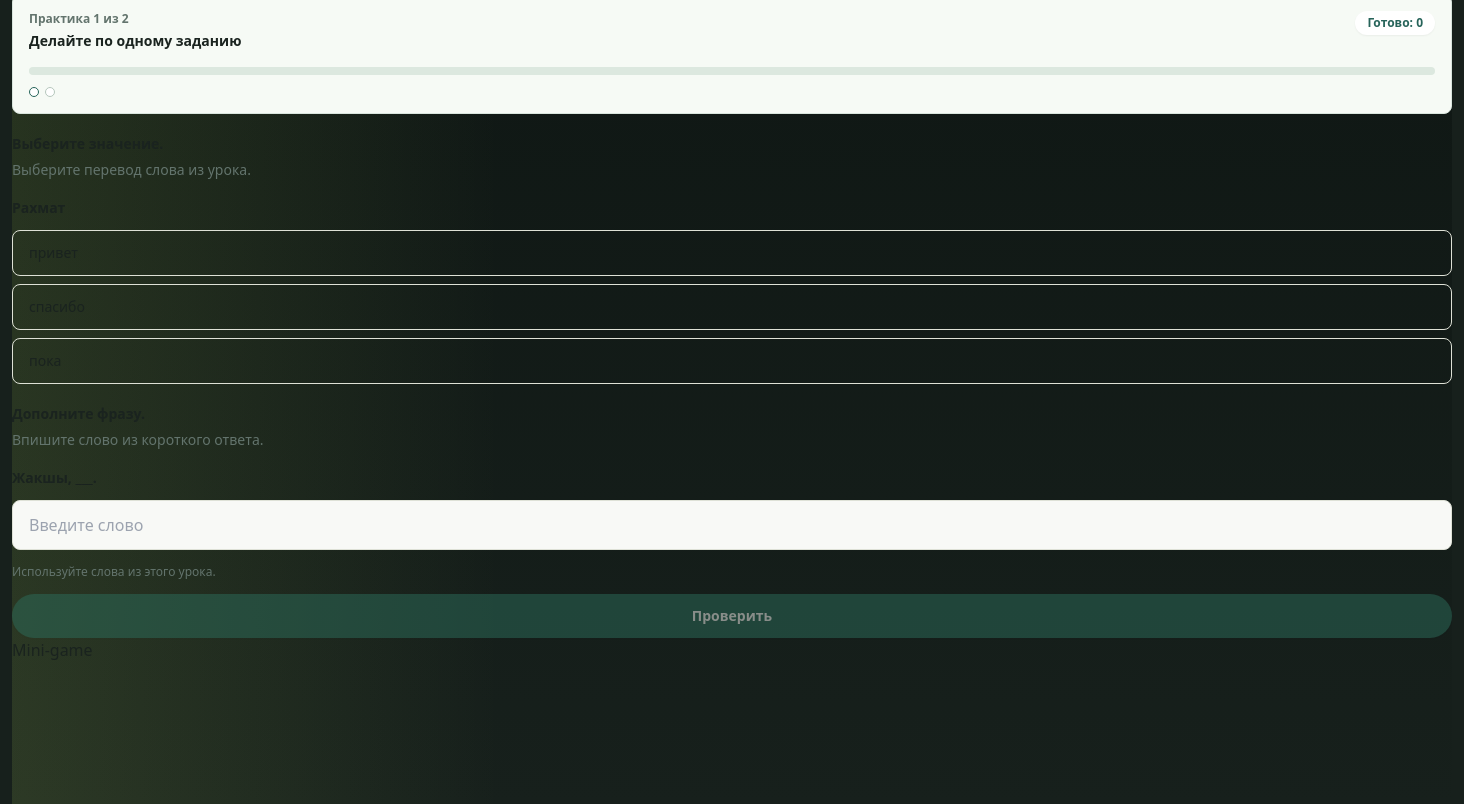
Test: PracticeSection › shows completion state and continue action after supported items are done
Click the button "спасибо" at (57, 306), box [12,284,1452,330]
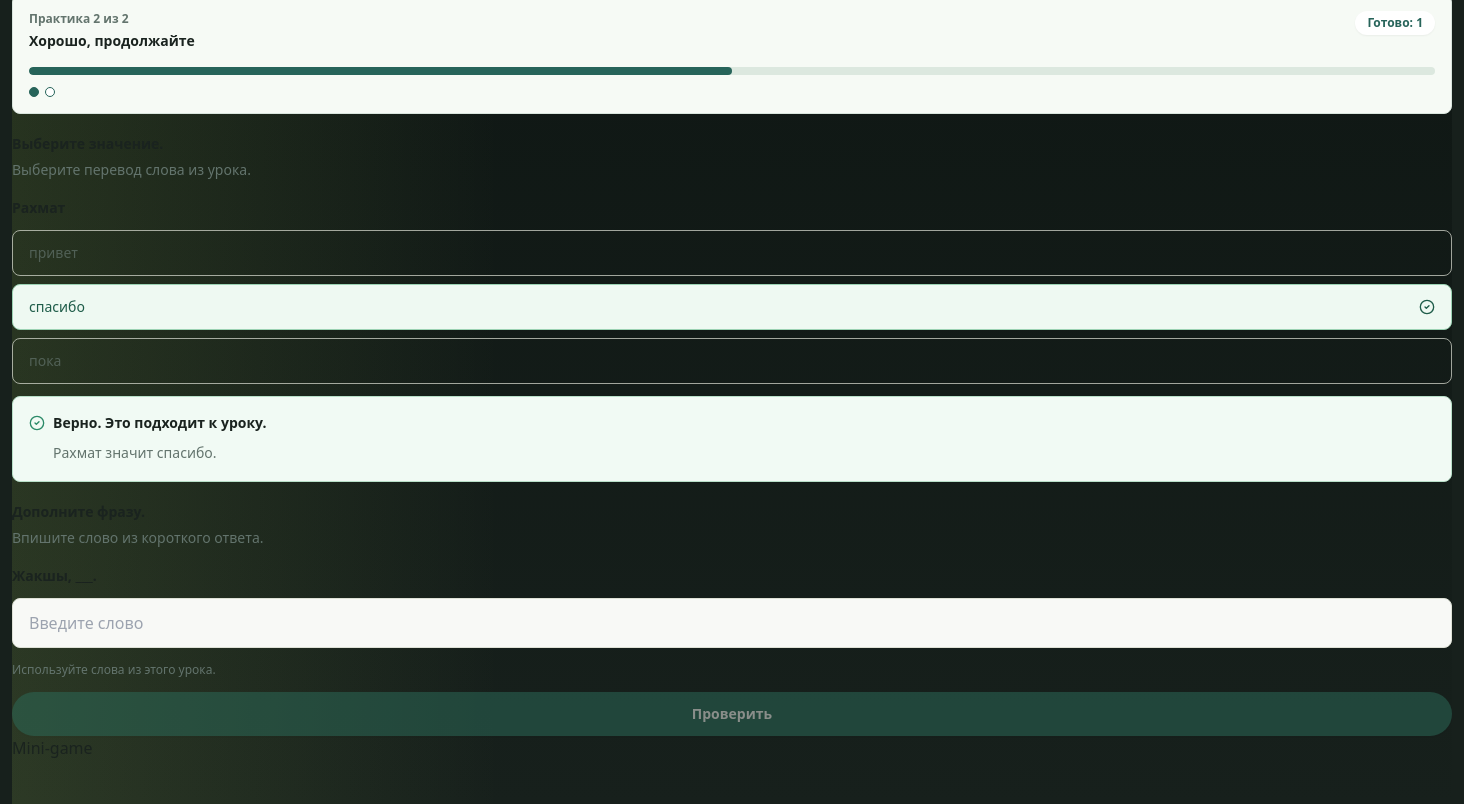
Type "рахмат" into the field labelled "Жакшы, ___." at (732, 623), box [12,598,1452,648]
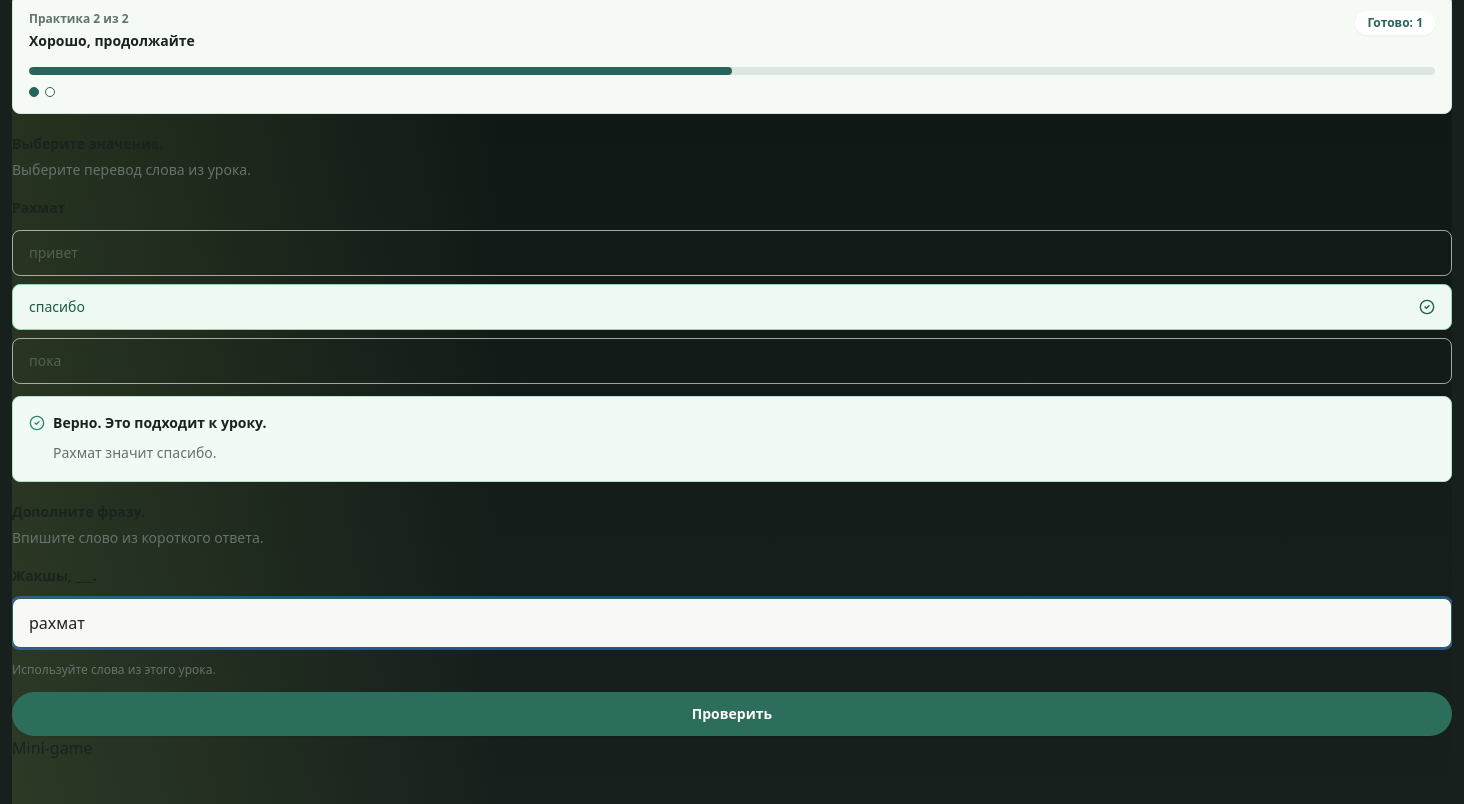
Click the button "Проверить" at (732, 714), box [12,692,1452,736]
(page scrolled)
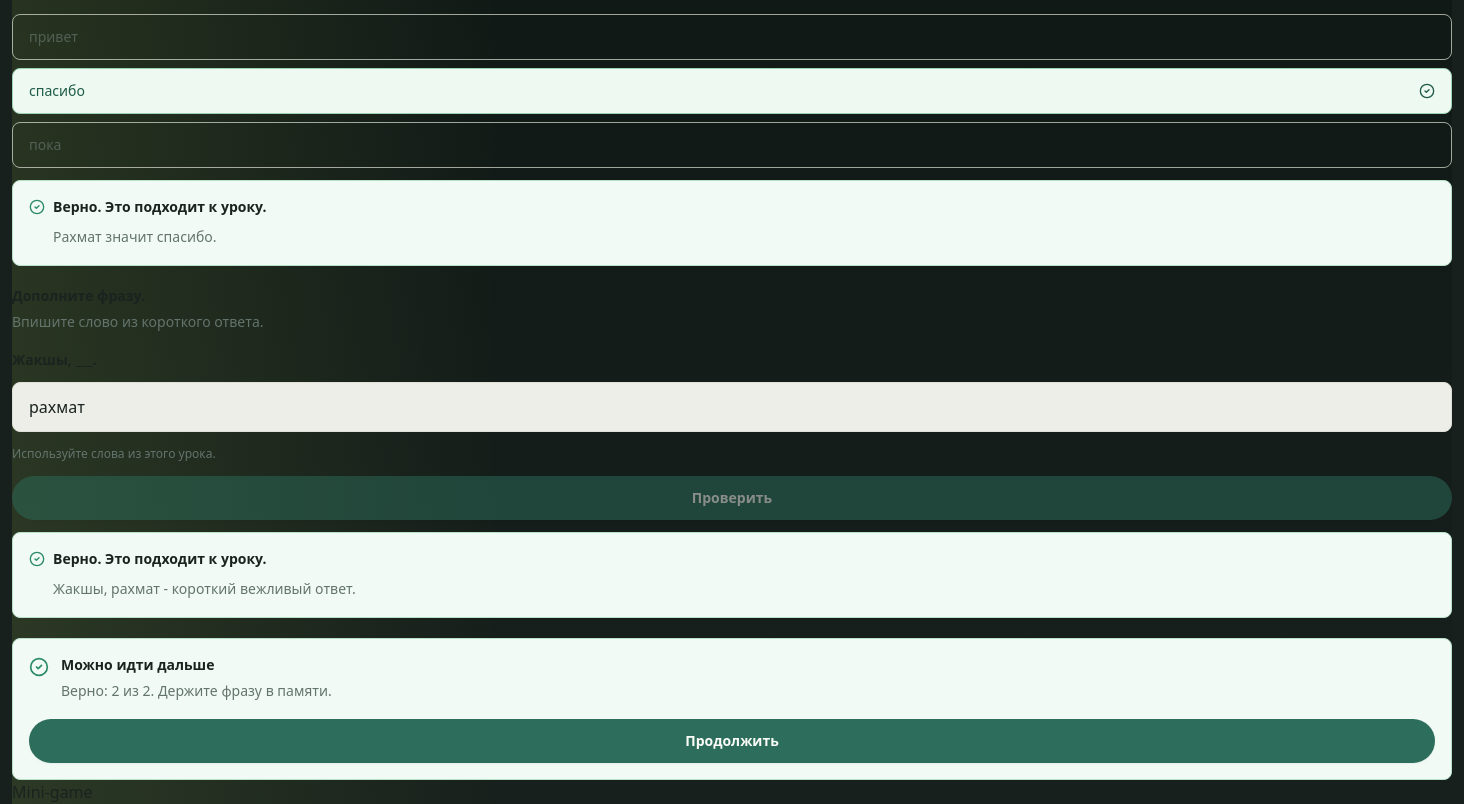
Expected: the element with test id "practice-complete" shows "Можно идти дальше", [61,655,214,674]
Expected: the element with test id "practice-complete" shows "Верно: 2 из 2", [61,681,332,700]
Expected: the button "Продолжить" is shown, [29,719,1435,763]
